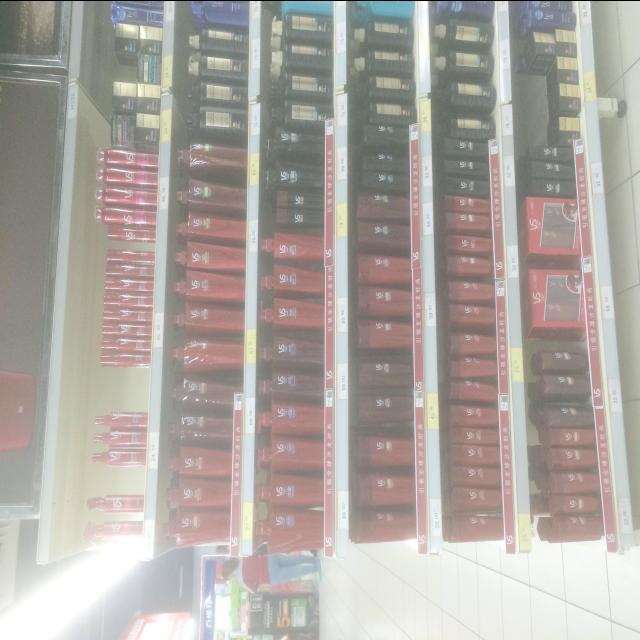empty_space: (90, 372, 150, 406), (91, 467, 142, 492)
